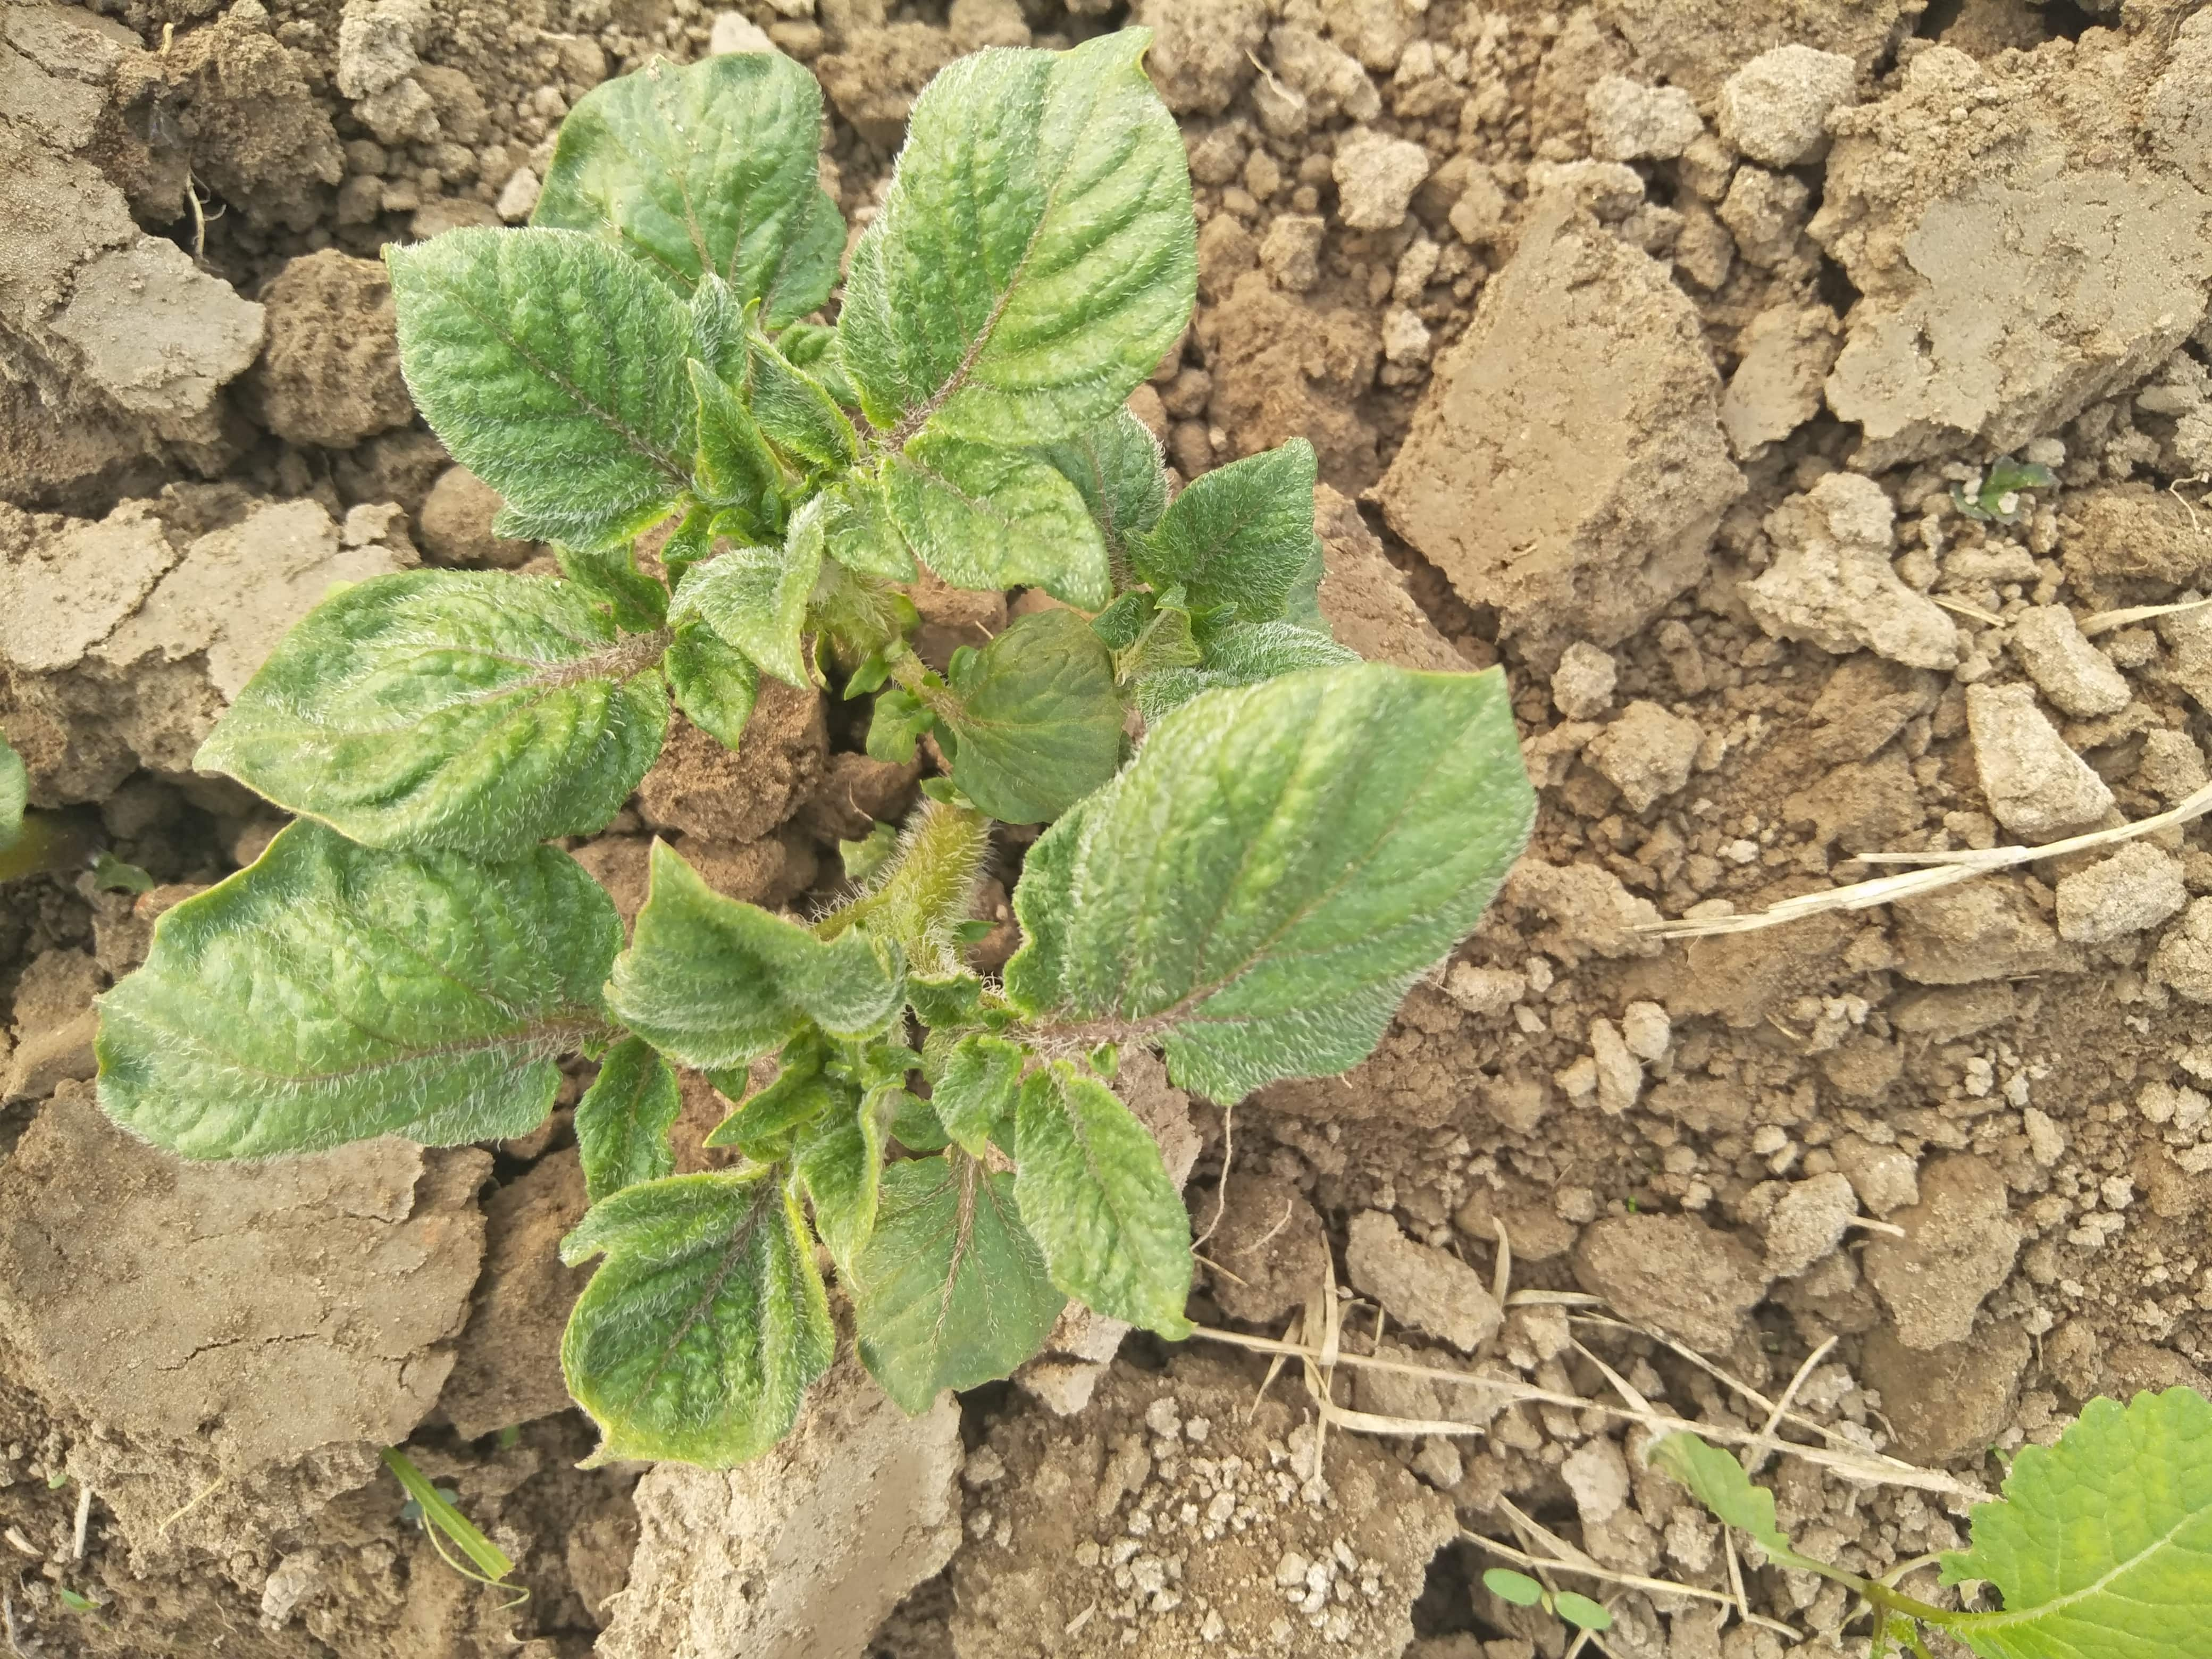daun: (1029, 660, 1515, 1091), (105, 836, 613, 1131), (855, 47, 1176, 446), (190, 592, 653, 836), (392, 237, 690, 516), (543, 33, 829, 321), (573, 1173, 819, 1457), (594, 849, 900, 1065), (848, 1147, 1043, 1415), (1024, 1025, 1176, 1335), (918, 605, 1125, 823), (1136, 430, 1315, 631), (672, 498, 864, 681), (881, 443, 1099, 601), (723, 324, 855, 460), (693, 373, 792, 545), (571, 1032, 672, 1187), (799, 1101, 900, 1239), (941, 1032, 1021, 1143), (676, 627, 745, 748)
